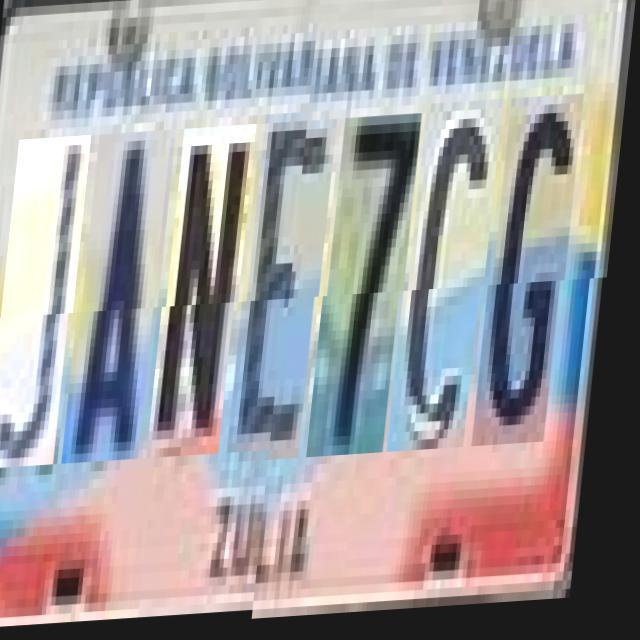7: (321, 119, 425, 461)
A: (75, 141, 178, 474)
C: (402, 106, 506, 457)
E: (240, 123, 340, 466)
G: (486, 102, 586, 452)
J: (0, 146, 94, 478)
N: (160, 137, 258, 470)
